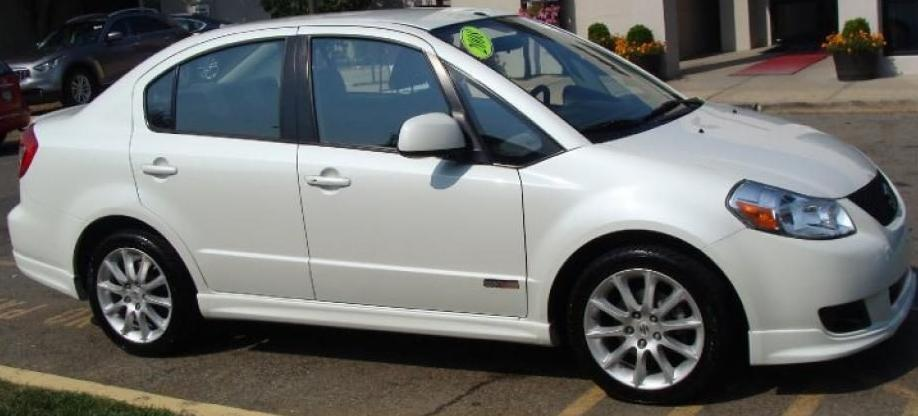front_view: (709, 120, 916, 358)
headlight: (721, 176, 869, 258)
side_glass: (153, 42, 531, 176)
